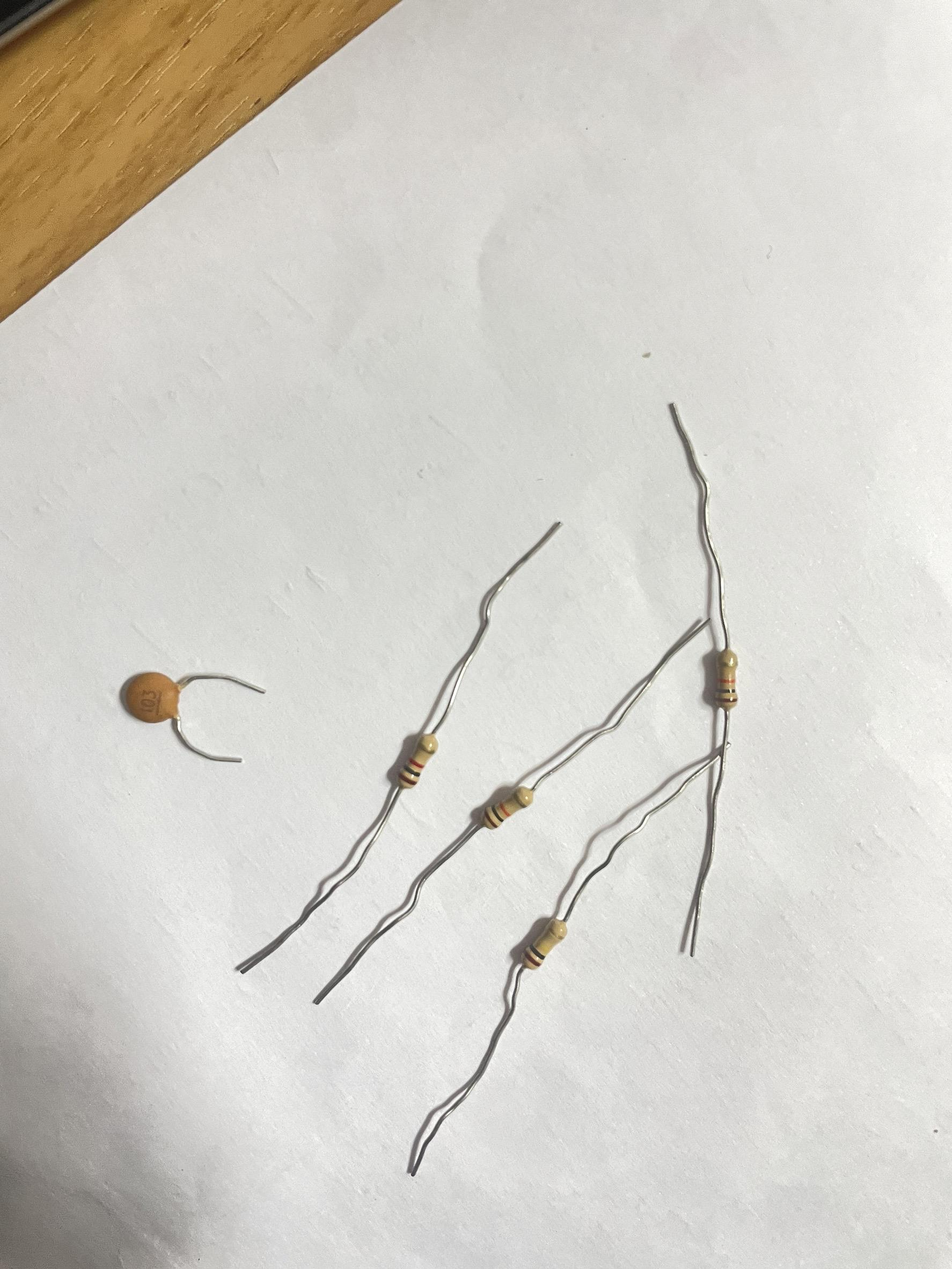resistor: (470, 783, 537, 835), (515, 916, 574, 969), (394, 726, 441, 792), (708, 644, 739, 713)
